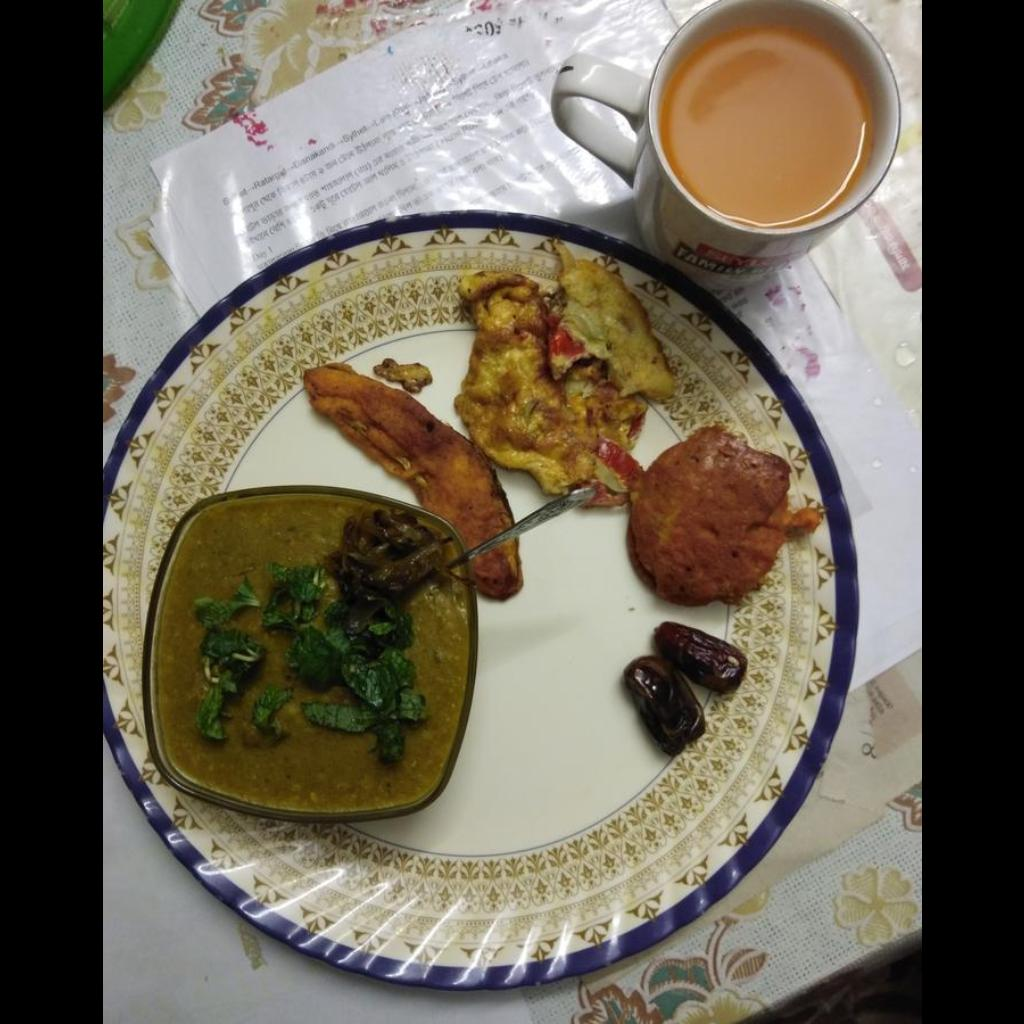beguni: (302, 364, 510, 545), (472, 544, 520, 600)
cha: (658, 26, 869, 226)
chop-alu: (625, 426, 821, 605)
daal: (155, 497, 470, 812)
dates: (623, 622, 746, 755)
egg-poached: (454, 245, 674, 504)
